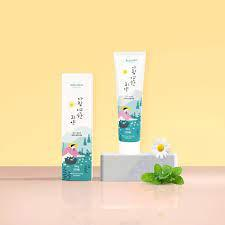toothpaste: (109, 49, 151, 156)
